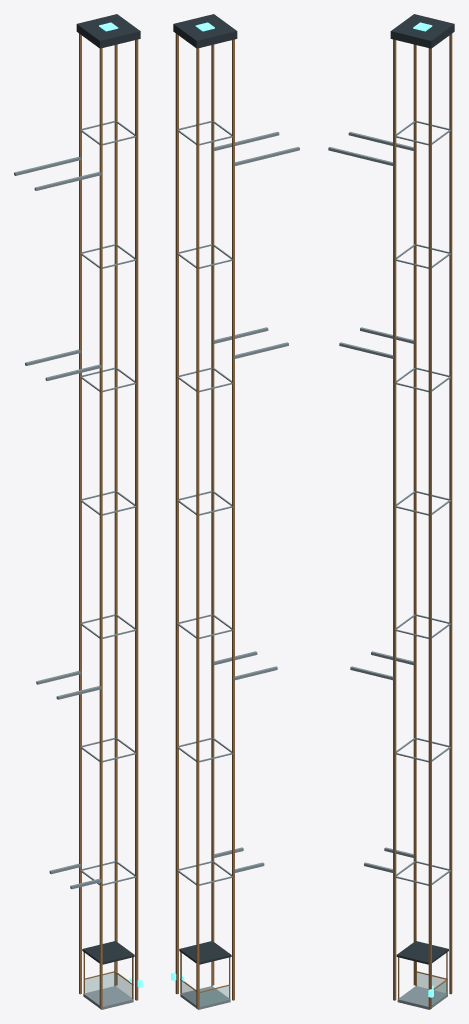
The model's file is sky-lift.lod2.glb.
3 renders of one model, left to right at view 1: azimuth 30°, elevation 25°; view 2: azimuth 210°, elevation 25°; view 3: azimuth 330°, elevation 25°, orthographic.
Visible parts, largest first — view 1: structure, cab; view 2: structure, cab; view 3: structure, cab.
Part boxes in pixels (left/top/right/bottom): structure: left=14, top=14, right=142, bottom=1009; cab: left=82, top=941, right=134, bottom=1009; structure: left=171, top=14, right=299, bottom=1009; cab: left=179, top=941, right=231, bottom=1009; structure: left=328, top=14, right=454, bottom=1009; cab: left=396, top=941, right=448, bottom=1009.
Bounding box in the file's own units: 8.57 × 75.69 × 3.42.
